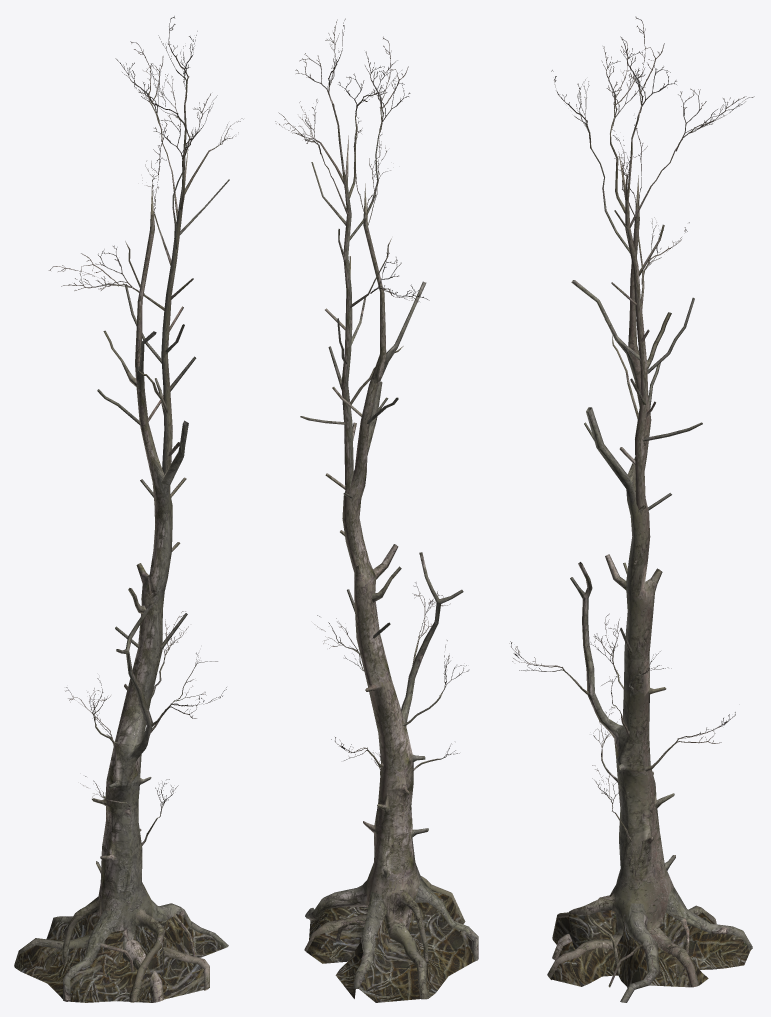
Rendered from SM_Tree_07.fbx.
3 renders of one model, left to right at view 1: azimuth 30°, elevation 25°; view 2: azimuth 150°, elevation 25°; view 3: azimuth 270°, elevation 25°, orthographic. The views are drawn at different scales.
Parts seen in each view (by area): view 1: SM_Tree_07; view 2: SM_Tree_07; view 3: SM_Tree_07.
Boxes of the visible parts, x1,y1,x2,y2 form: SM_Tree_07: (14, 16, 243, 1002); SM_Tree_07: (275, 18, 478, 1002); SM_Tree_07: (509, 16, 754, 1002).
Size of the model in its own units: 507 by 581 by 2522.
3 materials, 3 textured.
